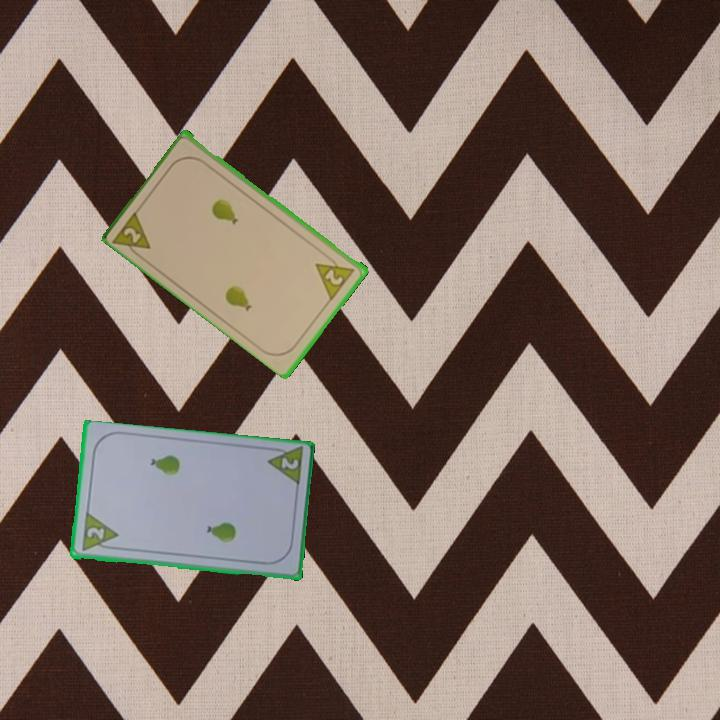2p: (110, 206, 155, 262), (312, 251, 359, 302), (263, 444, 306, 489), (83, 524, 107, 542)
